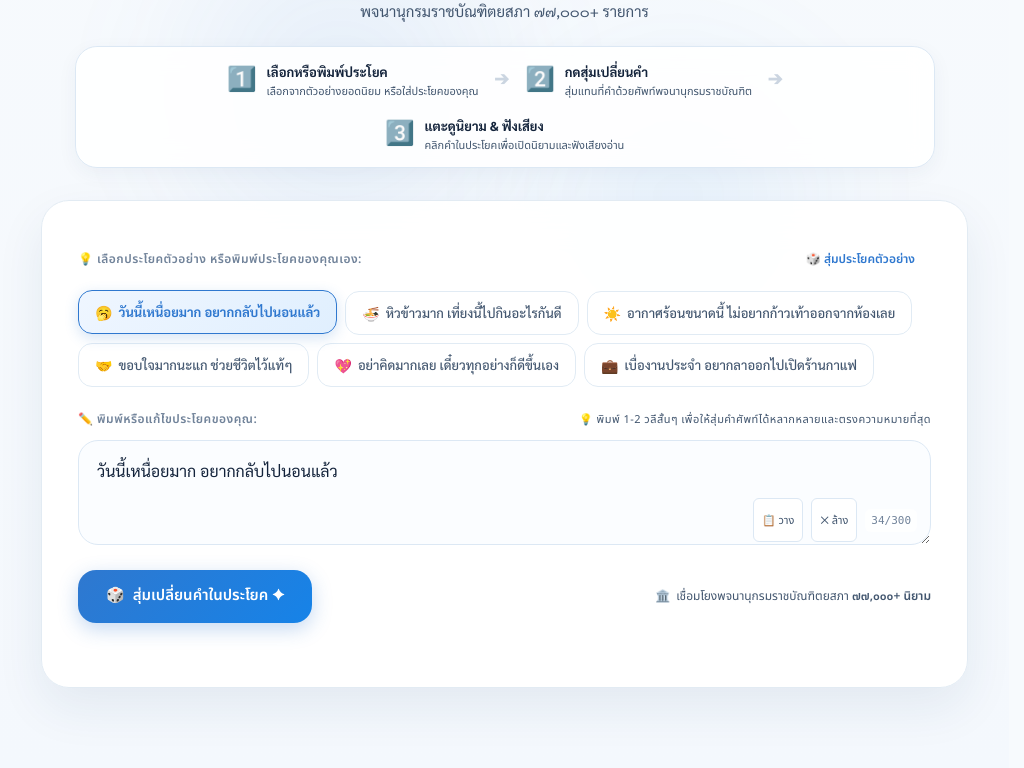
Test: Word Scrambler (สุ่มเปลี่ยนคำในประโยค) UI Component › opens dictionary detail modal when clicking an evidence card
(page scrolled)
Click the text "สุ่มเปลี่ยนคำในประโยค ✦": (208, 596) [133, 583, 284, 610]
(page scrolled)
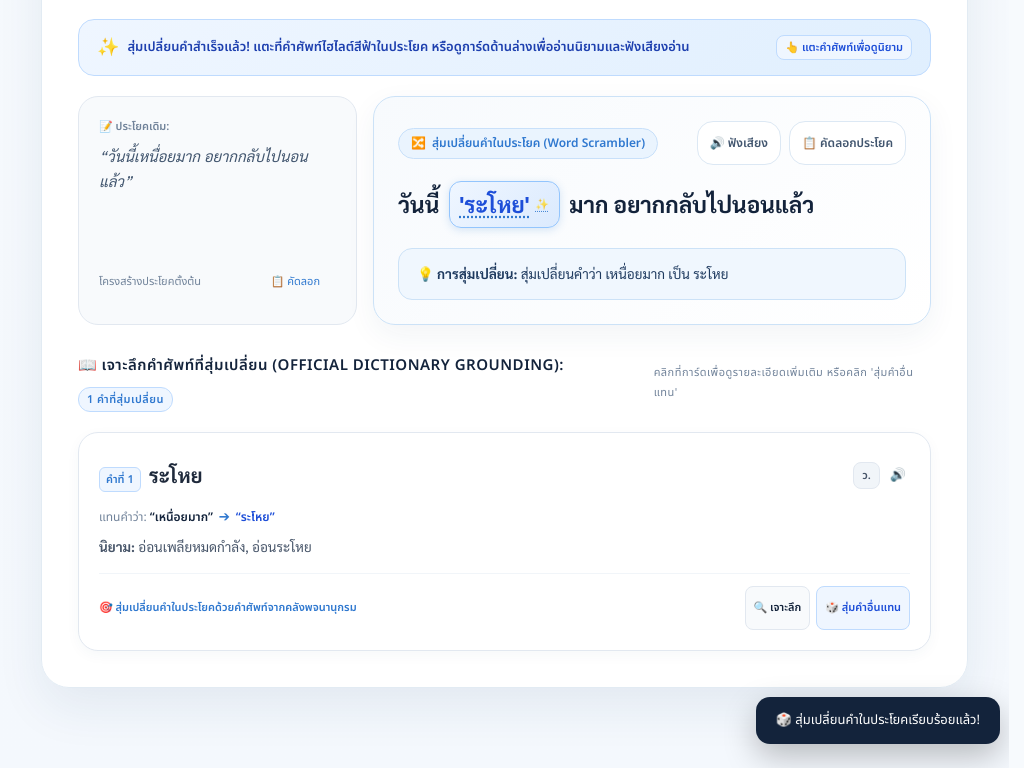
Check: the text "อ่อนเพลียหมดกำลัง, อ่อนระโหย" is shown, box [138, 538, 312, 555]
// Click on evidence card
Click the text "อ่อนเพลียหมดกำลัง, อ่อนระโหย": (205, 547) [99, 538, 312, 555]
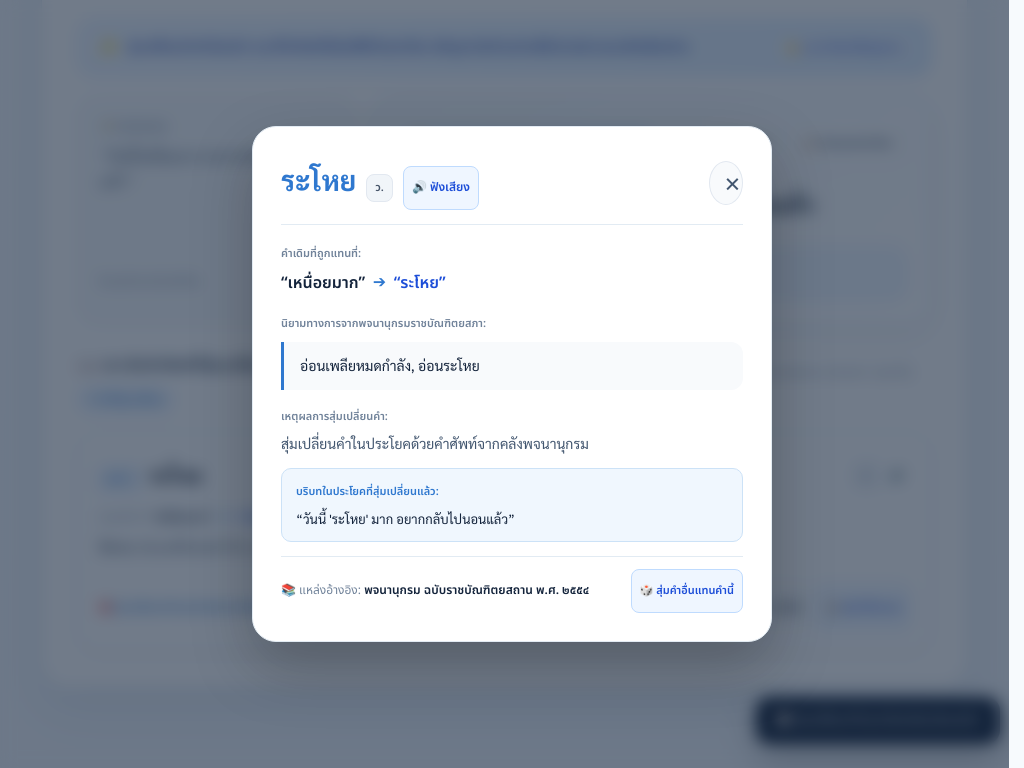
Check: the text "คำเดิมที่ถูกแทนที่:" is shown, box [281, 245, 361, 262]
Check: the text "นิยามทางการจากพจนานุกรมราชบัณฑิตยสภา:" is shown, box [281, 315, 486, 332]
// Close modal
Click the button "✕": (726, 182) [709, 160, 743, 204]
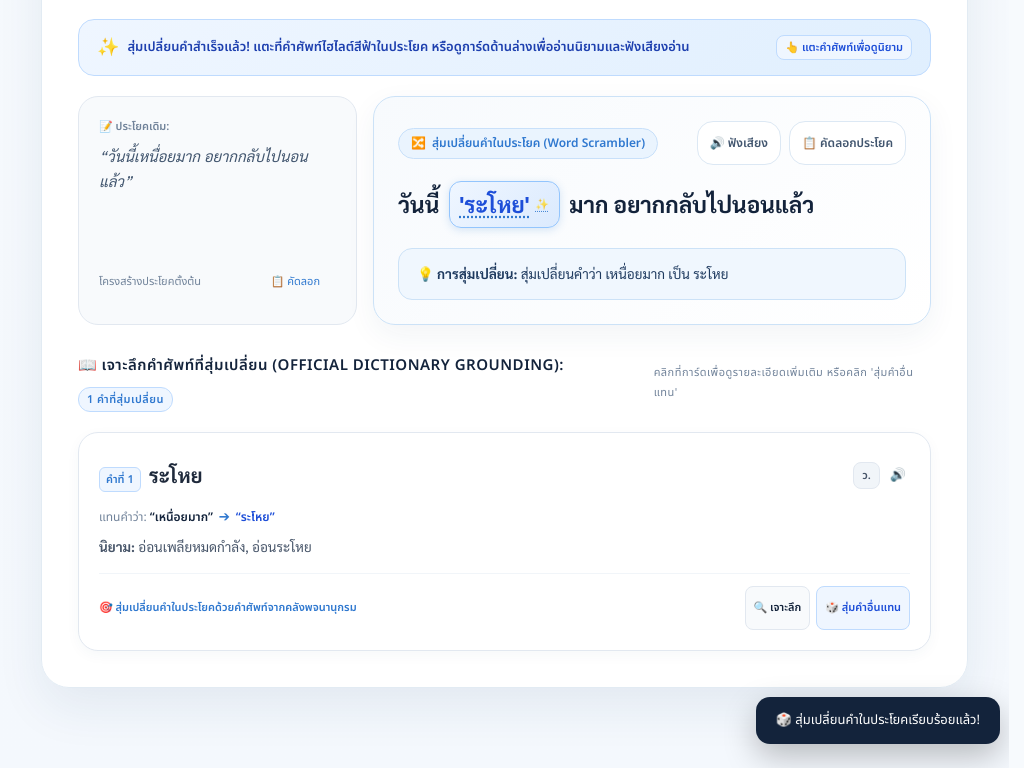
Check: the text "คำเดิมที่ถูกแทนที่:" is gone
